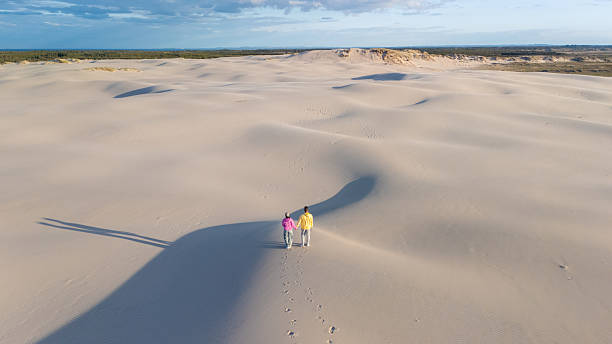human_foot_print: (281, 250, 336, 342), (296, 251, 336, 342), (280, 252, 293, 316)
